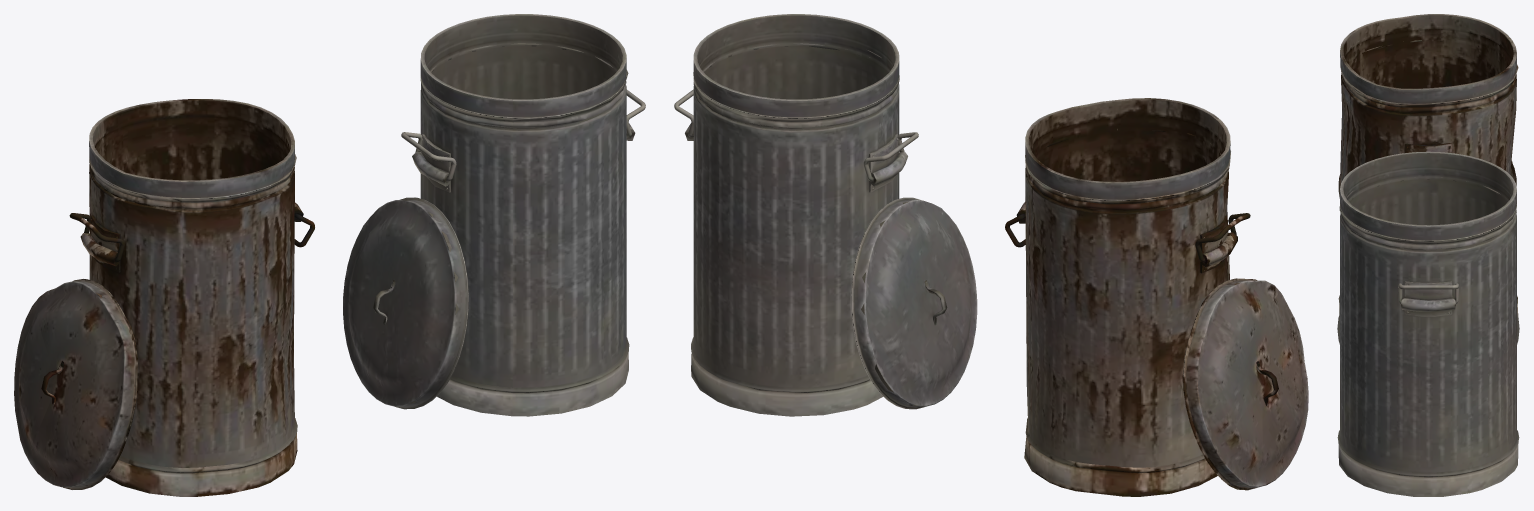
The model's file is metal_trash_can.glb.
3 views of the same model, side by side, from view 1: azimuth 30°, elevation 25°; view 2: azimuth 150°, elevation 25°; view 3: azimuth 270°, elevation 25° (orthographic). The views are drawn at different scales.
Parts seen in each view (by area): view 1: metal_trash_can, metal_trash_can_rust, metal_trash_can_lid, metal_trash_can_rust_lid; view 2: metal_trash_can, metal_trash_can_rust, metal_trash_can_lid, metal_trash_can_rust_lid; view 3: metal_trash_can, metal_trash_can_rust, metal_trash_can_handle_right.
Part boxes in pixels (left/top/right/bottom): metal_trash_can: left=412, top=14, right=635, bottom=416; metal_trash_can_rust: left=80, top=99, right=303, bottom=496; metal_trash_can_lid: left=343, top=197, right=468, bottom=409; metal_trash_can_rust_lid: left=14, top=279, right=137, bottom=489; metal_trash_can: left=685, top=14, right=907, bottom=416; metal_trash_can_rust: left=1016, top=98, right=1237, bottom=496; metal_trash_can_lid: left=851, top=197, right=977, bottom=409; metal_trash_can_rust_lid: left=1183, top=278, right=1308, bottom=490; metal_trash_can: left=1337, top=151, right=1519, bottom=496; metal_trash_can_rust: left=1338, top=14, right=1518, bottom=316; metal_trash_can_handle_right: left=1398, top=283, right=1458, bottom=303.
Bounding box in the file's own units: 1.78 × 0.9062 × 0.5543.
2 materials, 2 textured.
